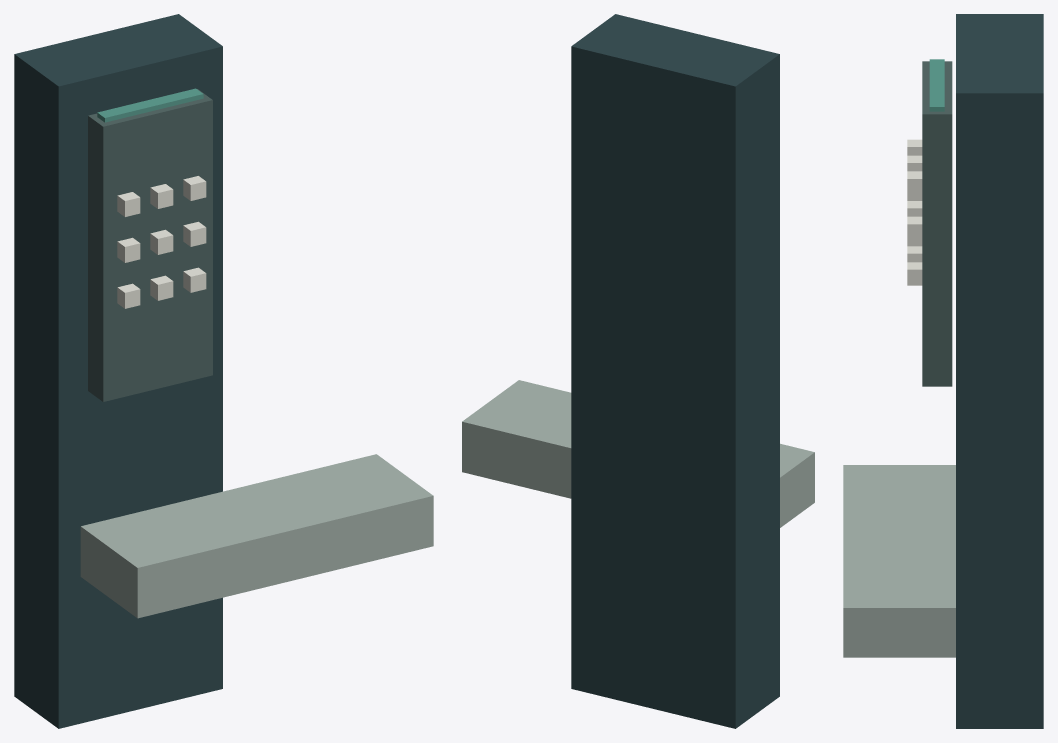
File: smart_door_lock.glb
3 renders of one model, left to right at view 1: azimuth 30°, elevation 25°; view 2: azimuth 150°, elevation 25°; view 3: azimuth 270°, elevation 25°, orthographic.
Parts seen in each view (by area): view 1: lock-backplate, handle, keypad, STATE_LED; view 2: lock-backplate, handle; view 3: lock-backplate, handle, keypad, STATE_LED, key-0-2, key-2-2, key-1-2.
Boxes of the visible parts, left/top/right/bottom form: lock-backplate: left=14, top=14, right=222, bottom=728; handle: left=80, top=454, right=433, bottom=618; keypad: left=88, top=89, right=212, bottom=401; STATE_LED: left=97, top=88, right=203, bottom=122; lock-backplate: left=571, top=14, right=779, bottom=728; handle: left=462, top=380, right=814, bottom=527; lock-backplate: left=956, top=14, right=1043, bottom=728; handle: left=843, top=465, right=955, bottom=657; keypad: left=922, top=61, right=952, bottom=386; STATE_LED: left=929, top=59, right=944, bottom=111; key-0-2: left=907, top=262, right=922, bottom=285; key-2-2: left=907, top=171, right=922, bottom=194; key-1-2: left=907, top=216, right=922, bottom=239.
Size of the model in its own units: 0.145 by 0.28 by 0.08.
